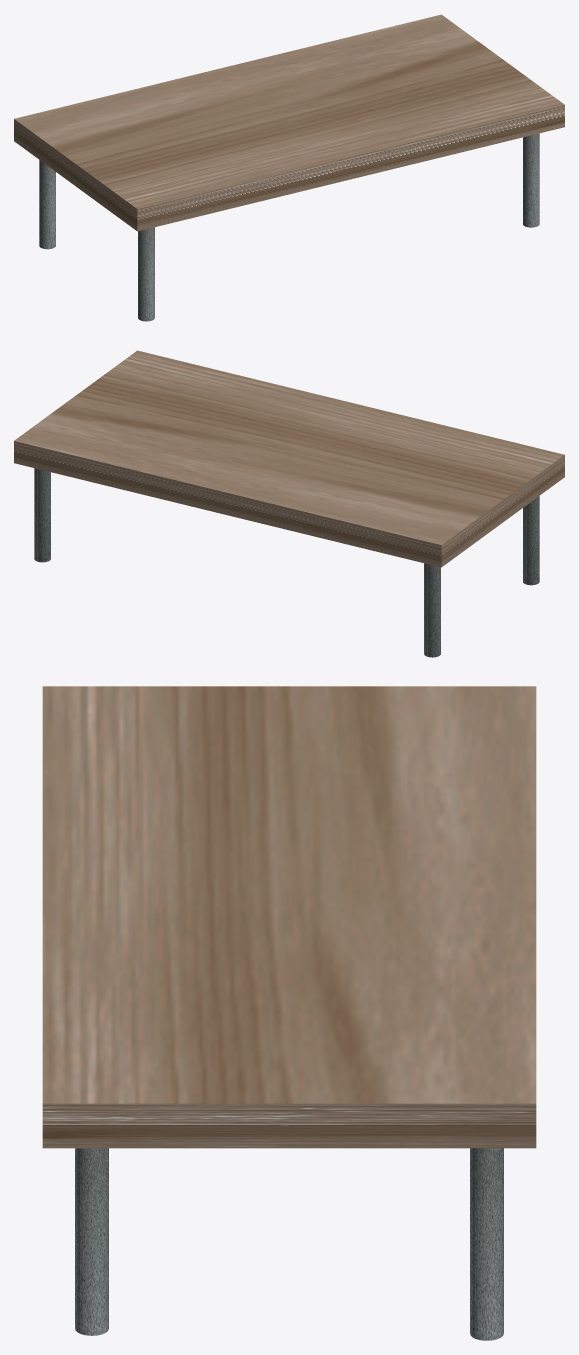
The model's file is desk.glb.
3 renders of one model, top to bottom at view 1: azimuth 30°, elevation 25°; view 2: azimuth 150°, elevation 25°; view 3: azimuth 270°, elevation 25°, orthographic. The views are drawn at different scales.
Visible parts, largest first — view 1: 立方体, 円柱, 円柱.003, 円柱.001; view 2: 立方体, 円柱.001, 円柱.002, 円柱; view 3: 立方体, 円柱.002, 円柱.003.
Part boxes in pixels (bbox=[...]): 立方体: bbox=[14, 14, 564, 231]; 円柱: bbox=[138, 227, 154, 321]; 円柱.003: bbox=[523, 133, 539, 227]; 円柱.001: bbox=[39, 160, 55, 249]; 立方体: bbox=[14, 350, 564, 567]; 円柱.001: bbox=[424, 563, 440, 657]; 円柱.002: bbox=[34, 468, 50, 562]; 円柱: bbox=[523, 496, 539, 585]; 立方体: bbox=[42, 686, 536, 1148]; 円柱.002: bbox=[470, 1148, 503, 1340]; 円柱.003: bbox=[75, 1148, 108, 1335].
Size of the model in its own units: 20 by 5.5 by 10.
2 materials, 2 textured.
